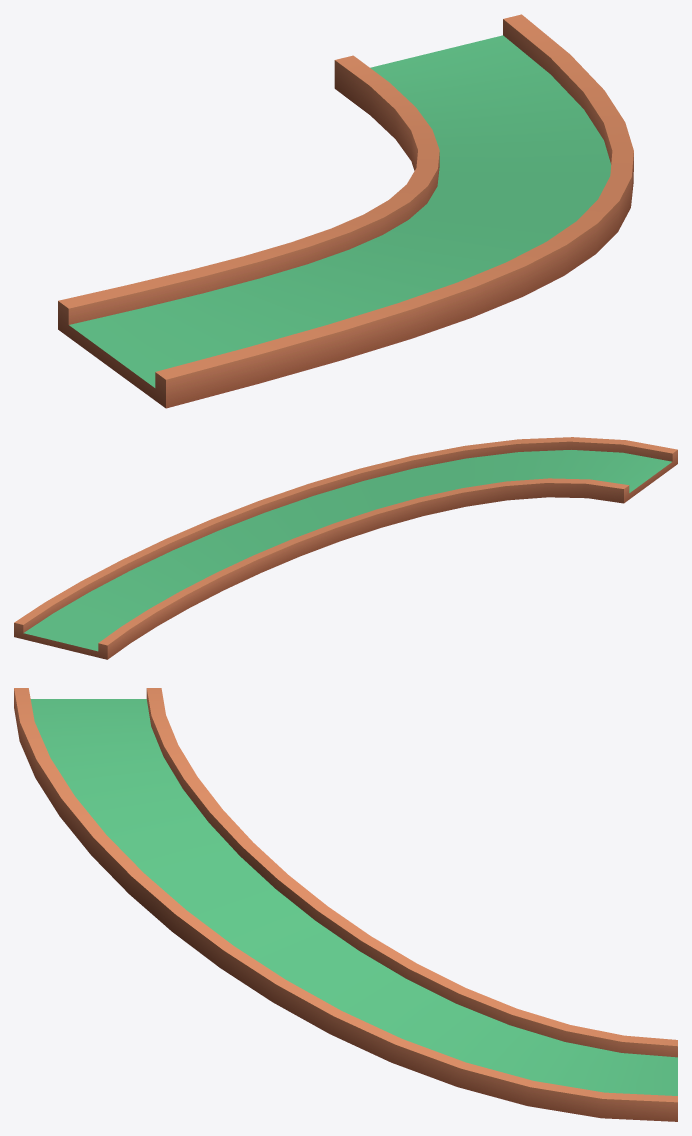
Rendered from spline-default-corner-large-ramp.glb.
3 views of the same model, one above another, from view 1: azimuth 30°, elevation 25°; view 2: azimuth 150°, elevation 25°; view 3: azimuth 270°, elevation 25° (orthographic). The views are drawn at different scales.
Visible parts, largest first — view 1: spline-default-corner-large-ramp; view 2: spline-default-corner-large-ramp; view 3: spline-default-corner-large-ramp.
Part boxes in pixels (x1,y1,x2,y2): spline-default-corner-large-ramp: (58, 14, 633, 408); spline-default-corner-large-ramp: (14, 437, 677, 659); spline-default-corner-large-ramp: (14, 688, 677, 1121).
Size of the model in its own units: 4.5 by 1.15 by 4.5.
1 material, 1 textured.
